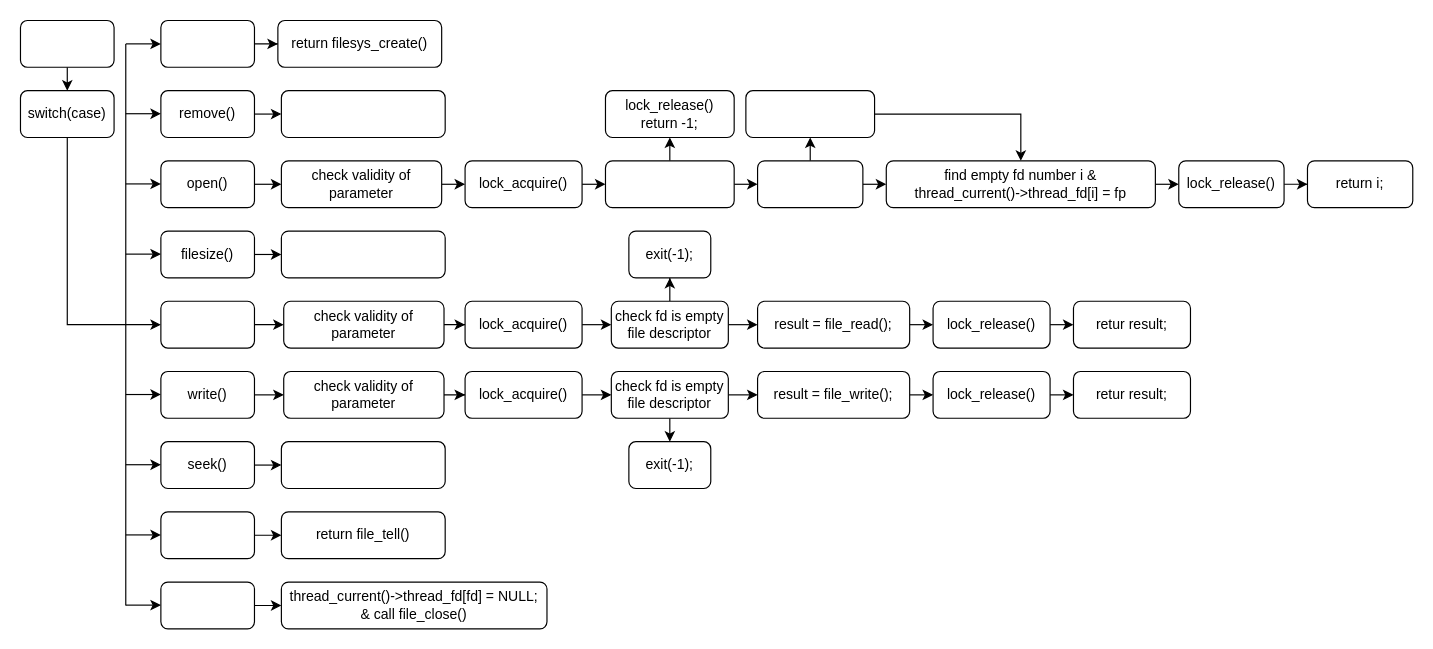
This 1433x649 diagram has some shape labels left out. Each missing label, with the centre of its shape:
"call file_seek()" goes at point (362, 464).
"check fp is current thread" goes at point (809, 184).
"close()" goes at point (207, 605).
"create()" goes at point (207, 43).
"file_deny_write(fp)" goes at point (810, 113).
"fp = filesys_open()" goes at point (669, 184).
"read()" goes at point (207, 324).
"return file_length()" goes at point (362, 254).
"return filesys_remove()" goes at point (362, 113).
"start" goes at point (66, 43).
"tell()" goes at point (207, 535).
